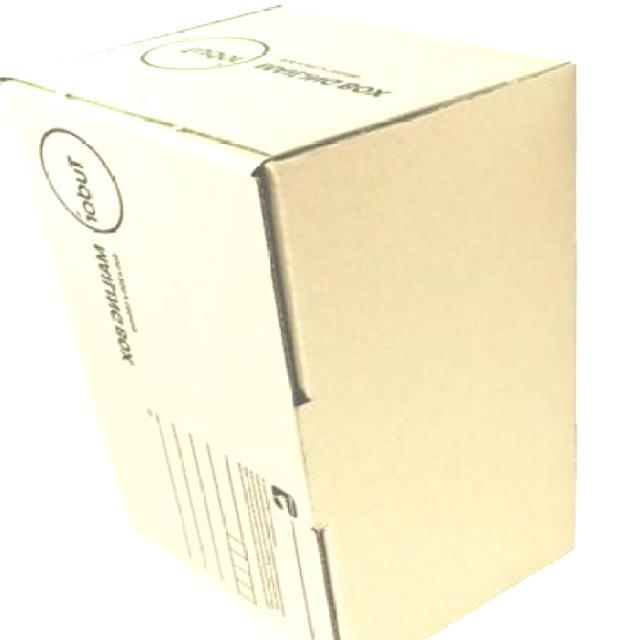box: (1, 7, 578, 639)
